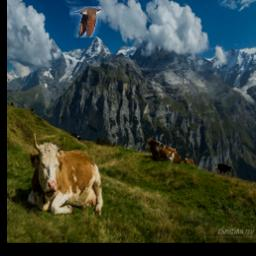Cuckoo: (69, 7, 101, 39)
